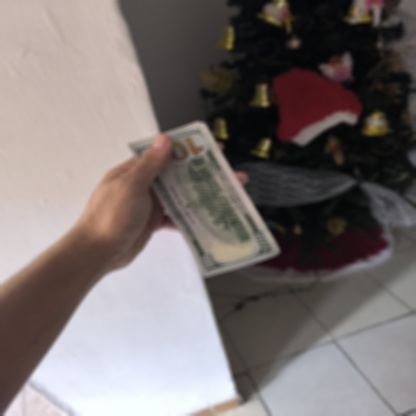one_hundred-back: (124, 118, 285, 278)
